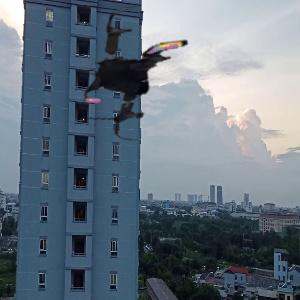drone: (69, 3, 214, 148)
